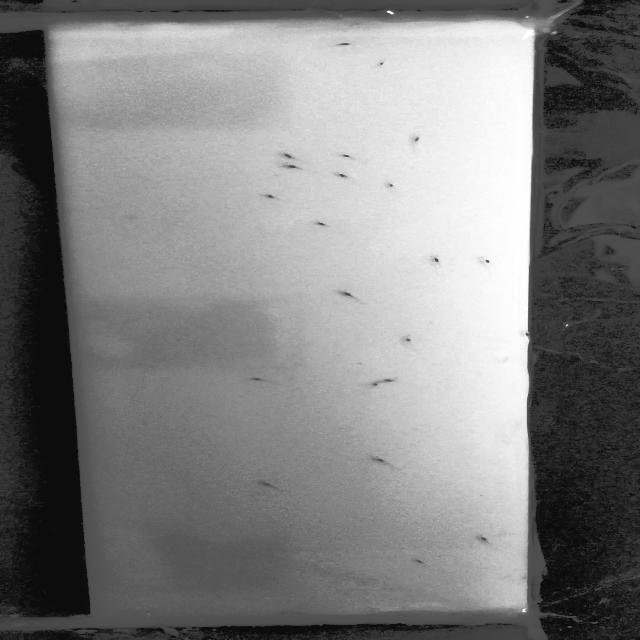shrimp: (335, 287, 364, 303), (368, 454, 396, 468), (341, 150, 365, 166), (330, 39, 358, 52), (412, 557, 436, 570), (249, 372, 269, 387), (366, 376, 384, 392), (257, 477, 277, 491), (472, 533, 495, 545), (374, 57, 392, 71), (312, 218, 328, 232), (382, 377, 402, 388), (273, 609, 292, 620), (264, 190, 281, 202), (399, 332, 414, 345), (406, 132, 422, 144), (292, 608, 308, 620), (288, 164, 307, 174), (431, 254, 446, 266), (478, 257, 496, 267), (286, 151, 298, 161), (335, 172, 351, 179), (386, 182, 400, 190)
